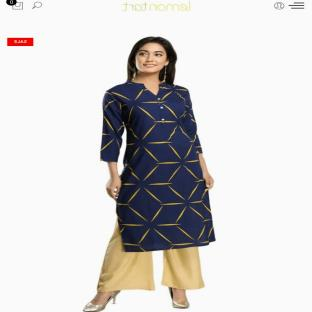Human: (84, 37, 215, 312)
